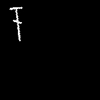double_crochet: (10, 7, 21, 40)
